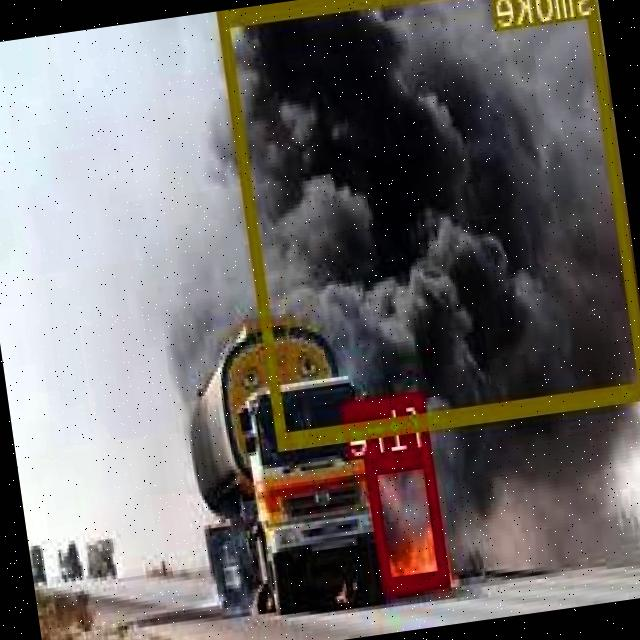fire: (367, 447, 452, 592)
smoke: (219, 0, 640, 447)
